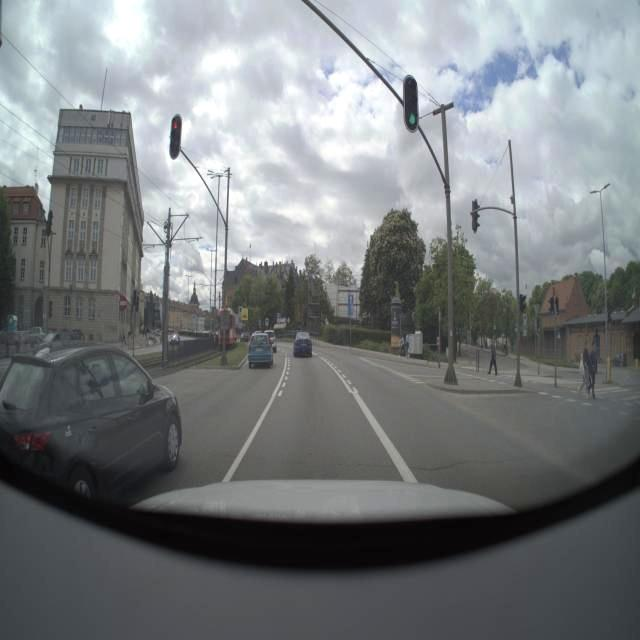Green: (394, 70, 424, 136)
Red: (164, 109, 188, 162)
